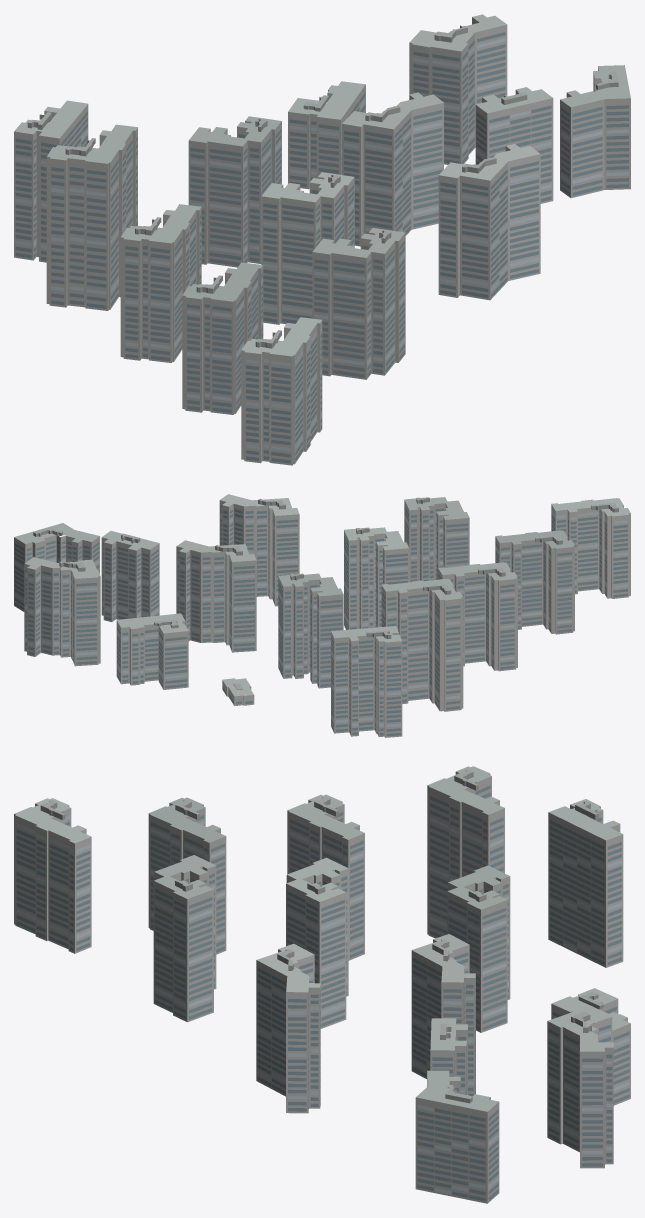
File: apt-a13876114.glb
3 renders of one model, top to bottom at view 1: azimuth 30°, elevation 25°; view 2: azimuth 150°, elevation 25°; view 3: azimuth 270°, elevation 25°, orthographic. The views are drawn at different scales.
Visible parts, largest first — view 1: apt-a13876114; view 2: apt-a13876114; view 3: apt-a13876114.
Part boxes in pixels (bbox=[...]): apt-a13876114: bbox=[14, 14, 630, 465]; apt-a13876114: bbox=[14, 494, 630, 737]; apt-a13876114: bbox=[14, 766, 630, 1203].
Size of the model in its own units: 296 by 72 by 261.
